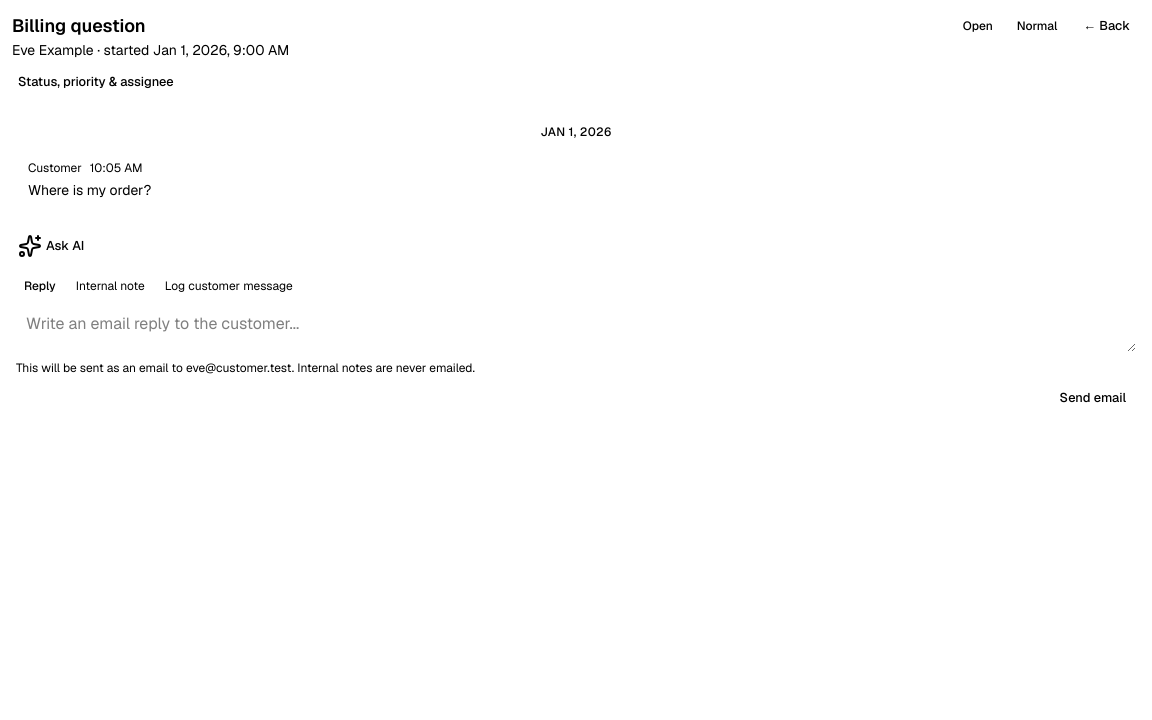
Test: ConversationPane: replying by email › shows the server's reason when email cannot be sent (settings off, no address)
The image size is (1152, 720).
Step 1. Type "Hello" into the text box → (576, 328), box [16,304,1136,352]
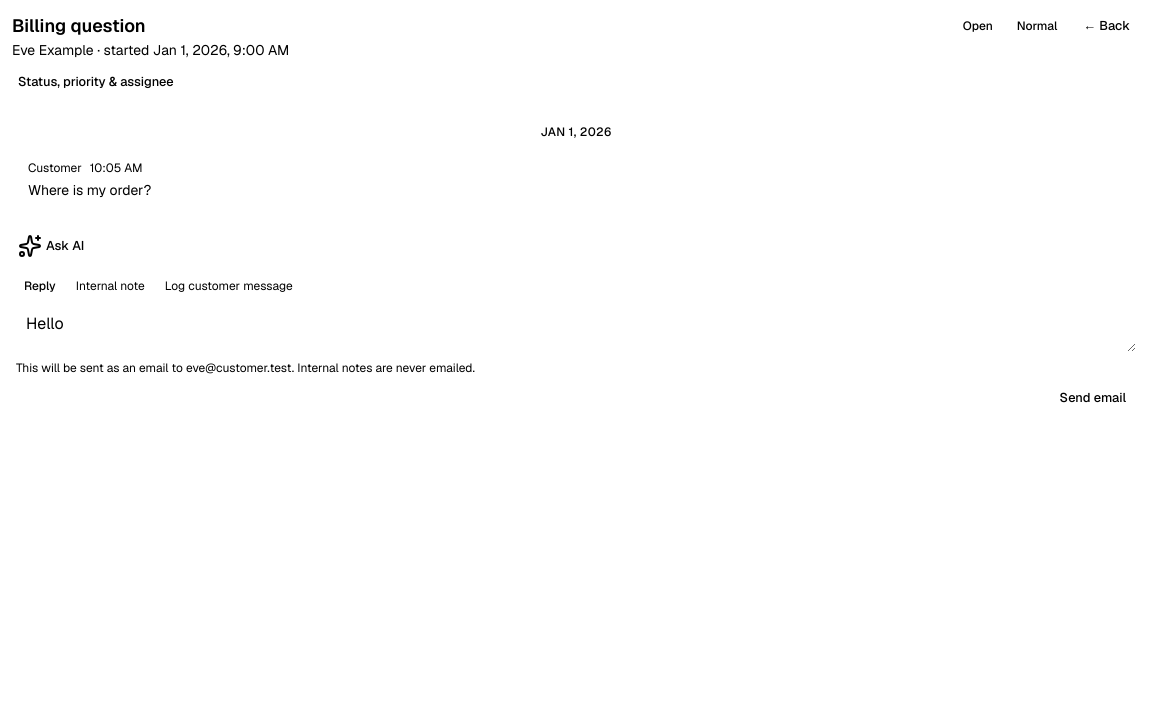
Step 2. Click the button "Send email" → (1093, 398), box [1050,384,1136,412]
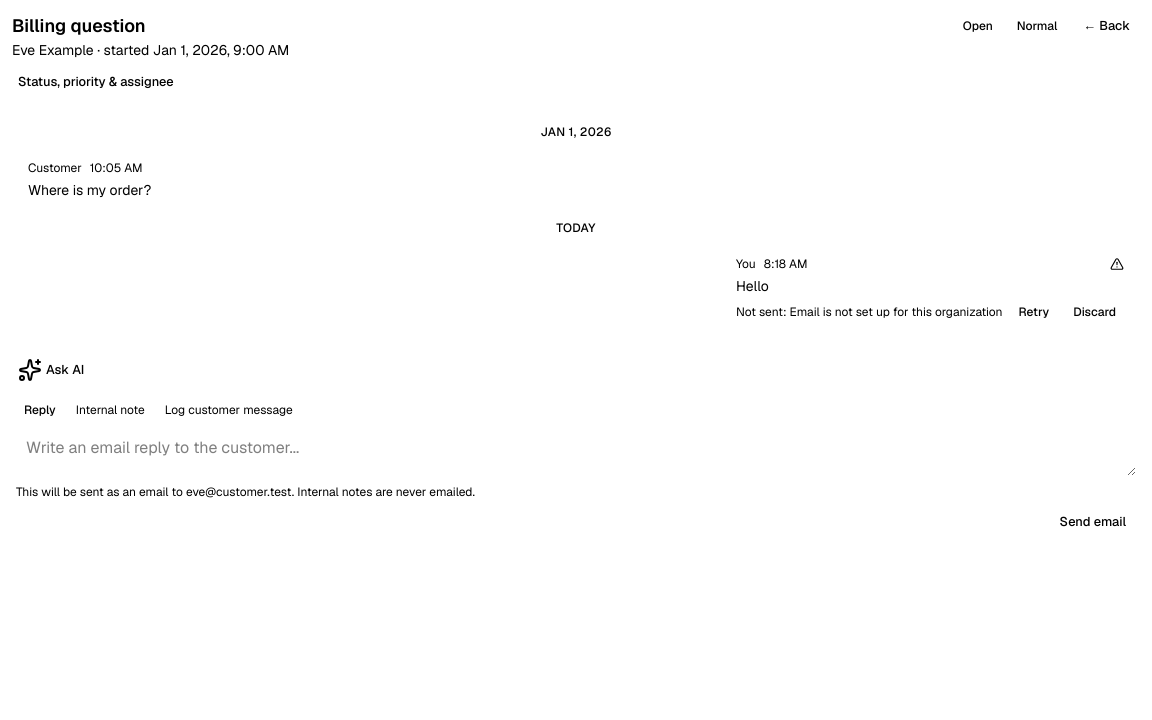
Result: the message shows "Email is not set up" at [783,304,1002,320]
